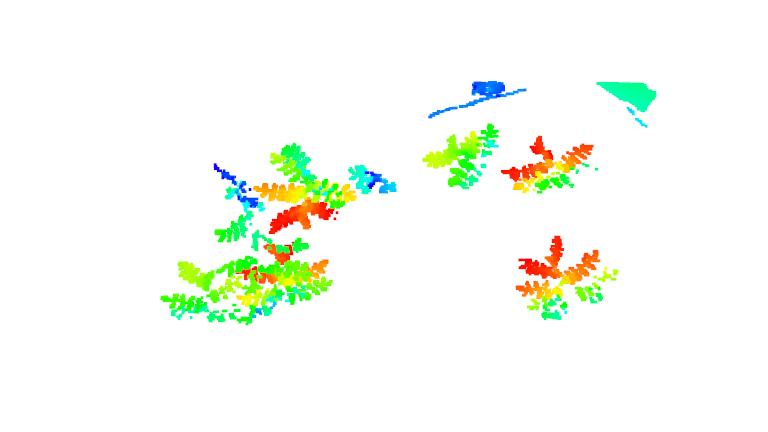chickpea: (252, 141, 398, 239), (501, 239, 617, 323), (162, 245, 267, 328), (502, 130, 604, 197), (209, 159, 276, 249), (267, 235, 342, 312), (418, 122, 498, 189)
